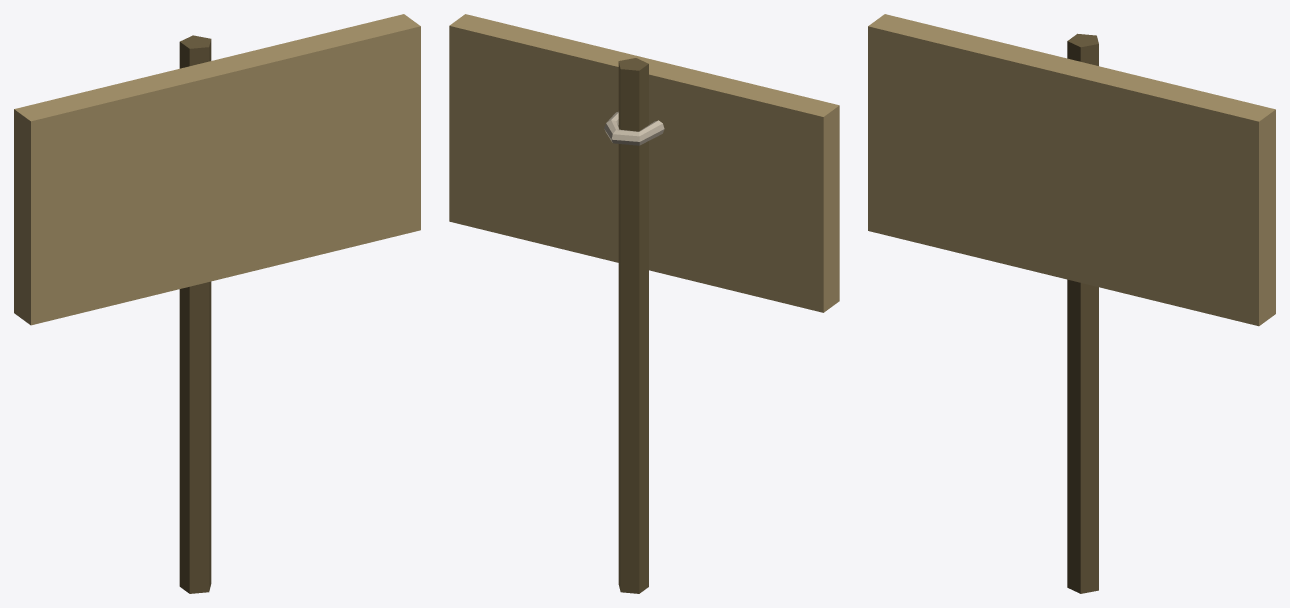
File: Sign.fbx
The picture shows the model from 3 angles, left to right: view 1: azimuth 30°, elevation 25°; view 2: azimuth 150°, elevation 25°; view 3: azimuth 330°, elevation 25°; orthographic projection. The views are drawn at different scales.
Parts seen in each view (by area): view 1: polySurface1; view 2: polySurface1; view 3: polySurface1.
Boxes of the visible parts, x1,y1,x2,y2 form: polySurface1: (14, 14, 420, 593); polySurface1: (449, 14, 839, 593); polySurface1: (868, 14, 1275, 593).
Bounding box in the file's own units: 114 × 152 × 21.36.
